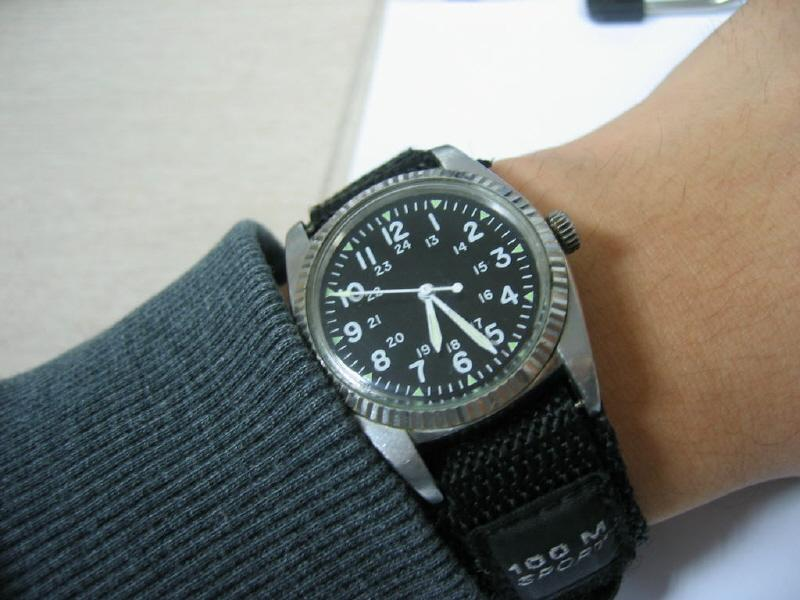watch: (281, 143, 647, 586)
